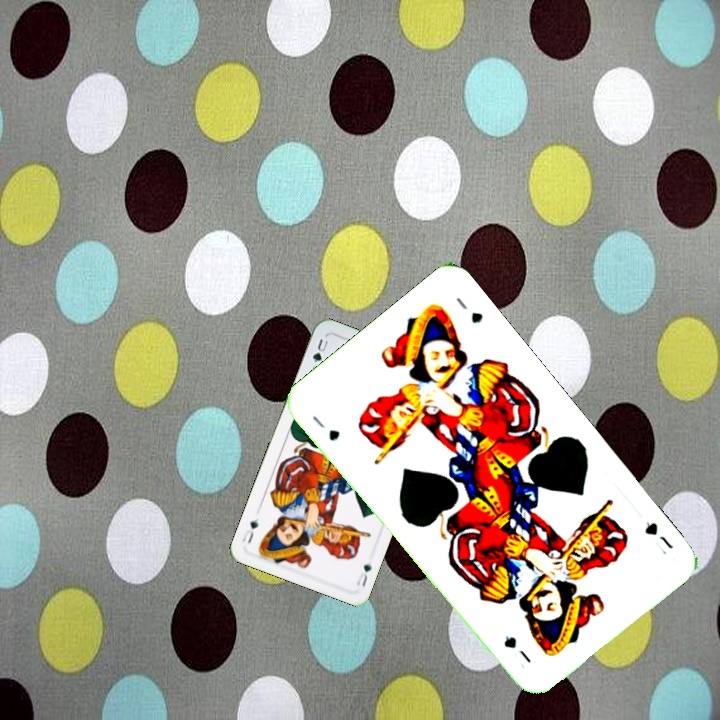GU: (640, 517, 676, 558), (308, 411, 343, 444), (308, 335, 331, 366), (352, 560, 375, 590)
